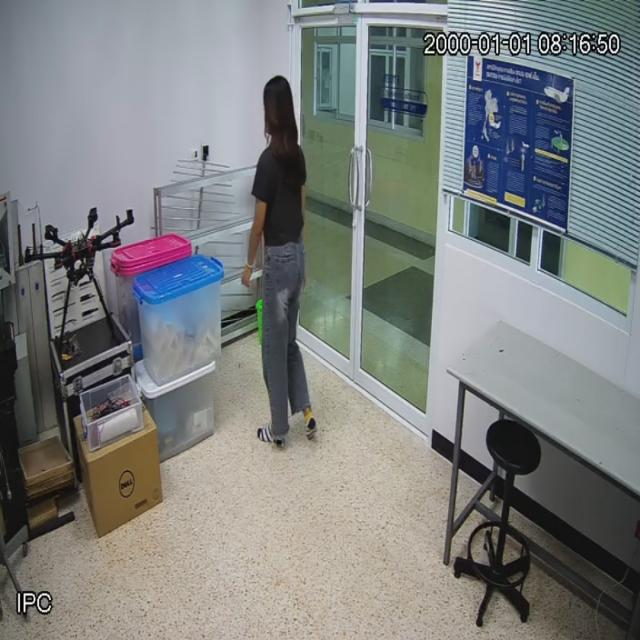normal: (243, 76, 316, 436)
